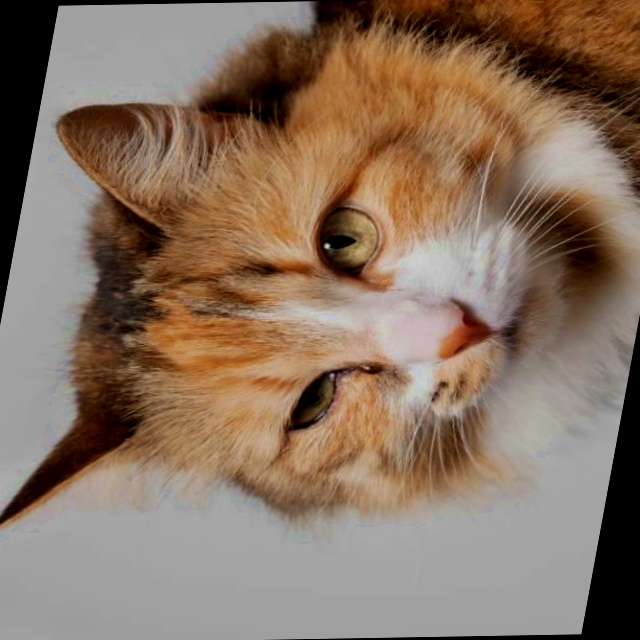eye_infection: (283, 360, 382, 424)
